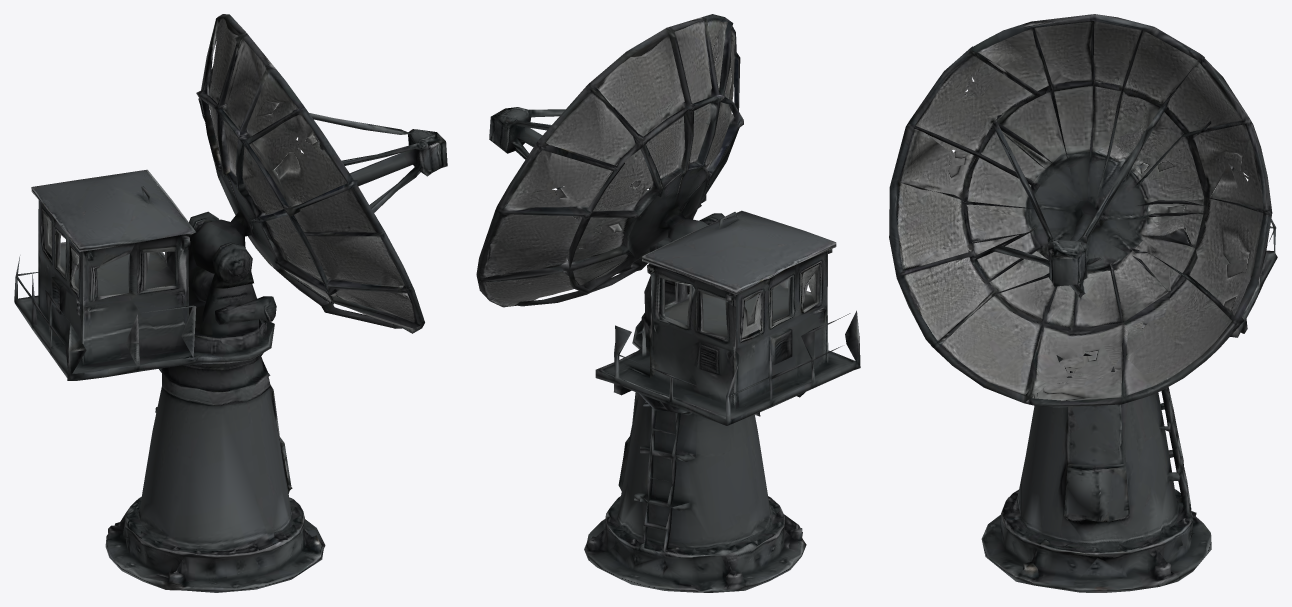
The model's file is prop_wurzburg.glb.
3 renders of one model, left to right at view 1: azimuth 30°, elevation 25°; view 2: azimuth 150°, elevation 25°; view 3: azimuth 270°, elevation 25°, orthographic. The views are drawn at different scales.
Parts seen in each view (by area): view 1: tripo_node_32604a43-4f22-4e26-beb1-9c00ecd01be9; view 2: tripo_node_32604a43-4f22-4e26-beb1-9c00ecd01be9; view 3: tripo_node_32604a43-4f22-4e26-beb1-9c00ecd01be9.
Part boxes in pixels (x1,y1,x2,y2): tripo_node_32604a43-4f22-4e26-beb1-9c00ecd01be9: [14, 14, 447, 592]; tripo_node_32604a43-4f22-4e26-beb1-9c00ecd01be9: [476, 14, 860, 592]; tripo_node_32604a43-4f22-4e26-beb1-9c00ecd01be9: [889, 14, 1277, 592].
Bounding box in the file's own units: 0.7423 × 0.9778 × 0.6293.
Materials: 1 (1 with a texture image).
